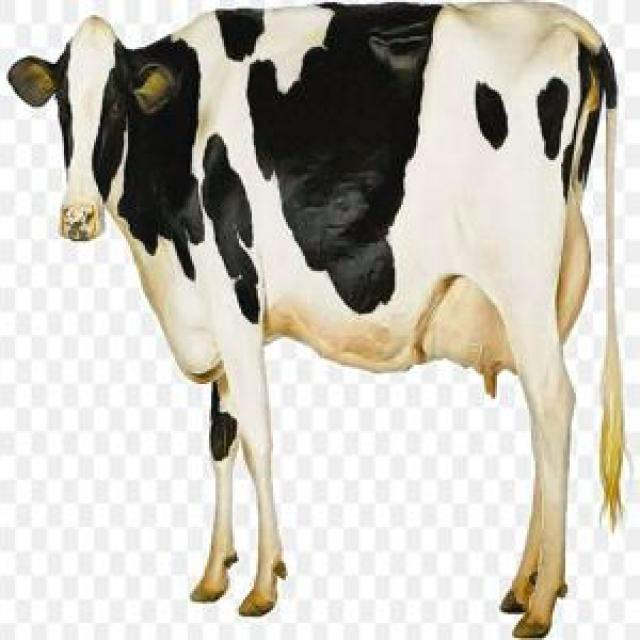cow: (9, 4, 624, 639)
